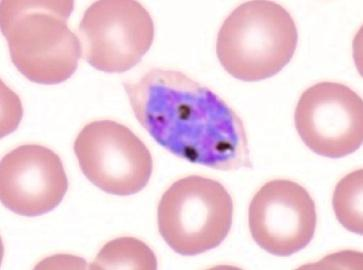Infected: (108, 97, 240, 202)
Uninfected: (65, 189, 146, 270), (129, 14, 205, 94), (211, 73, 289, 150), (209, 196, 290, 270), (0, 110, 69, 187), (284, 185, 356, 258), (46, 13, 114, 89), (294, 54, 363, 125)
